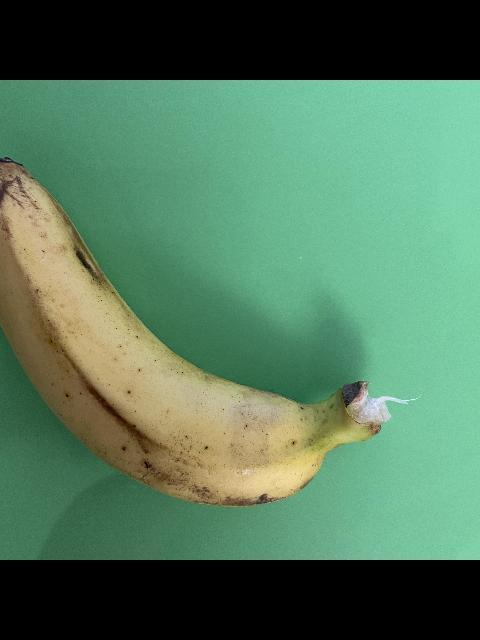banana: (0, 155, 390, 506)
